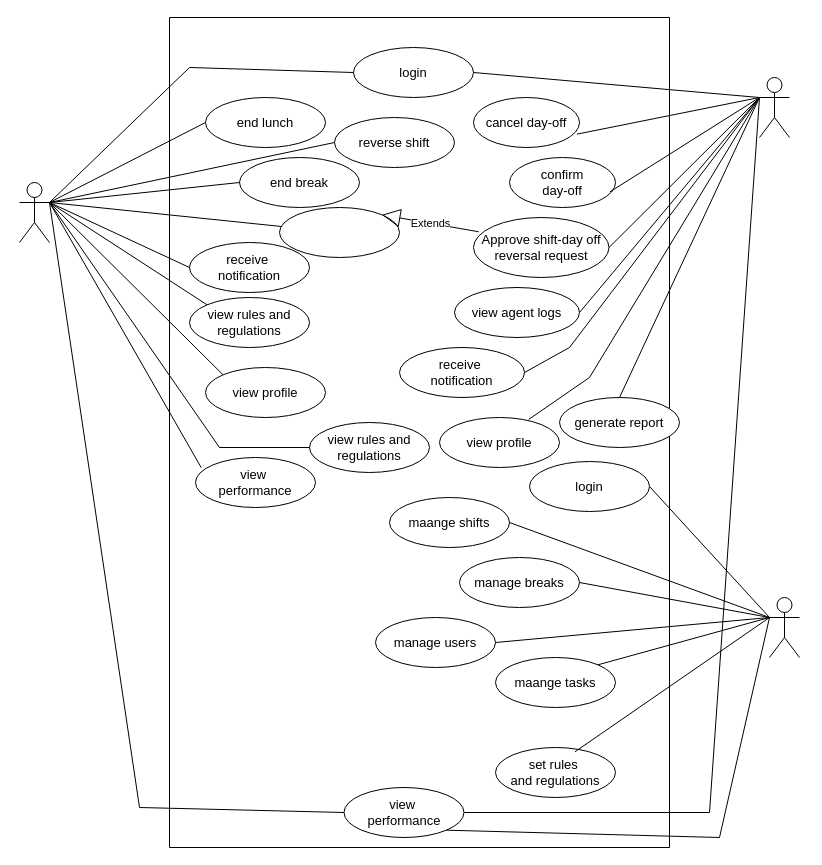
Some shapes in this 822 by 865 pixel diagram are drawn without their labels. Each missing label, with the centre of its shape:
Admin: the point at 784,627
Agent: the point at 34,212
request day-off: the point at 339,232
Supervisor: the point at 774,107
